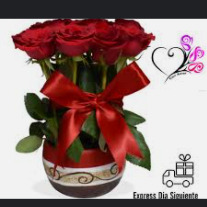RedRose: (10, 19, 55, 61), (56, 19, 93, 60), (118, 16, 152, 54), (94, 23, 125, 61)
